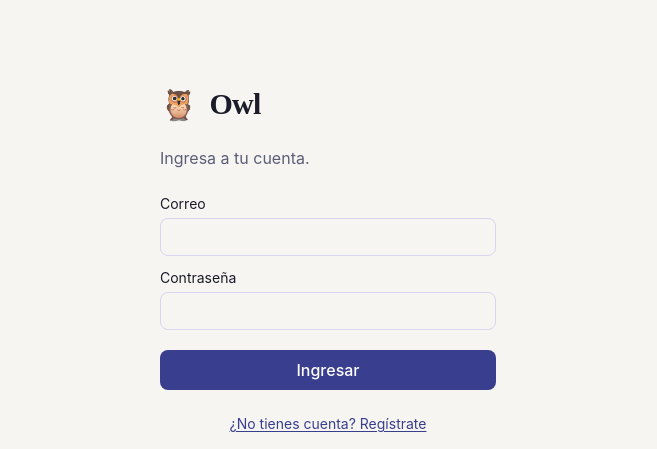
it: shows the scholarship browser instead of chat when AI_SCHOLARSHIP_AGENT is off
Step 1. Type "a@b.com" into the field labelled "Correo" → (328, 237), box [160,218,496,256]
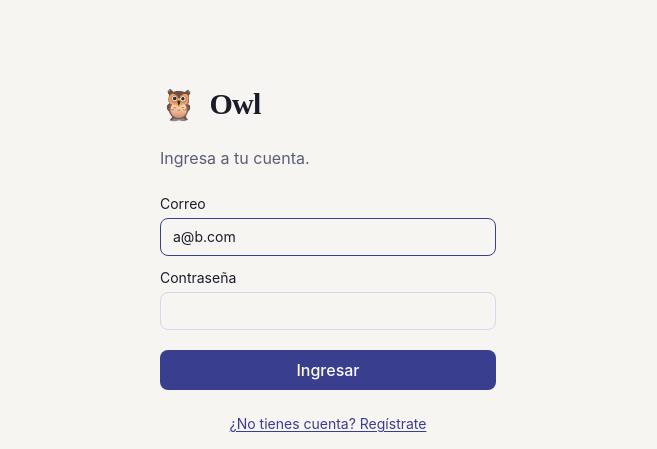
Step 2. Type "password123" into the password field labelled "Contraseña" → (328, 311), box [160,292,496,330]
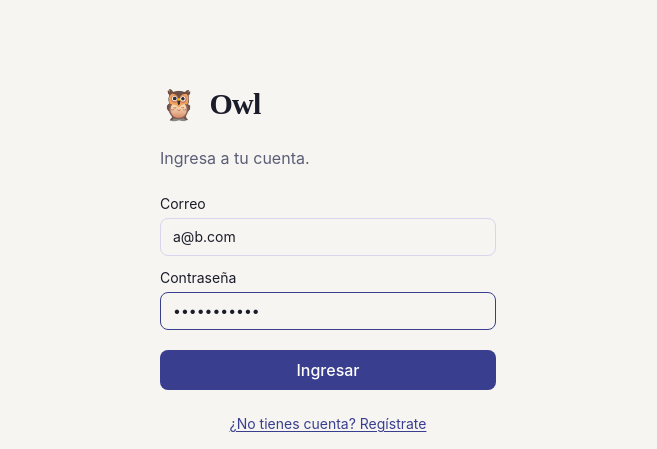
Step 3. Click the button "Ingresar" → (328, 370), box [160,350,496,390]
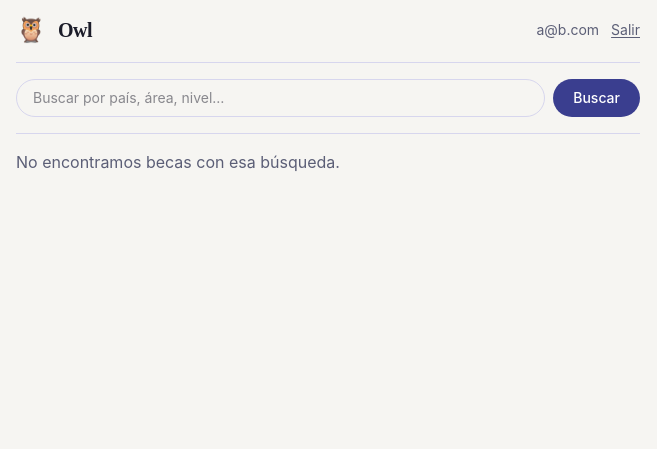
expect the field named "Buscar becas" is shown: met, box [16,79,545,117]
